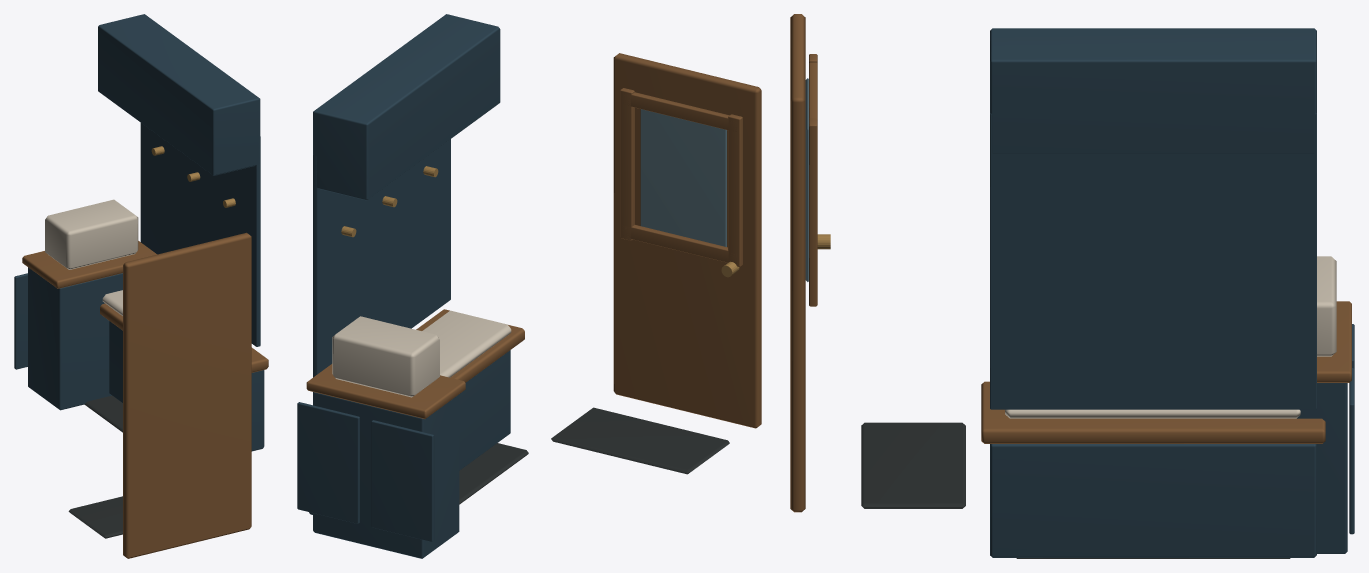
File: back-entry-furniture-v002.glb
3 renders of one model, left to right at view 1: azimuth 30°, elevation 25°; view 2: azimuth 150°, elevation 25°; view 3: azimuth 270°, elevation 25°, orthographic. The views are drawn at different scales.
Parts seen in each view (by area): view 1: Export Back entry bench; view 2: Export Back entry bench; view 3: Export Back entry bench.
Part boxes in pixels (x1,y1,x2,y2): Export Back entry bench: (14, 14, 268, 558); Export Back entry bench: (297, 14, 761, 558); Export Back entry bench: (790, 14, 1354, 558).
Bounding box in the file's own units: 1.57 × 2.57 × 2.59.
